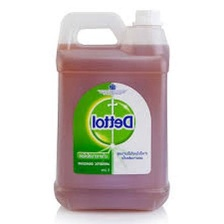cleaning_solution: (50, 4, 170, 216)
